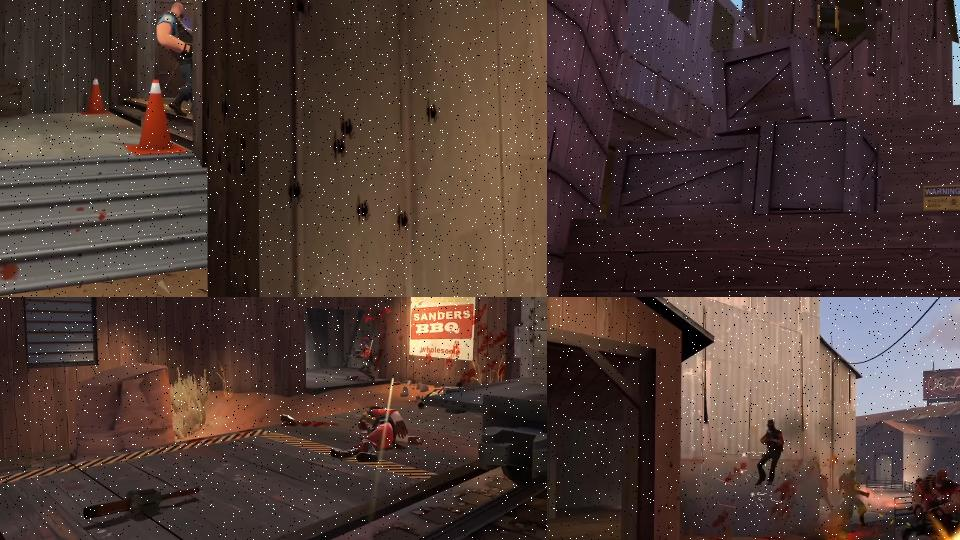Enemy: (329, 404, 425, 465), (156, 2, 194, 118), (901, 468, 960, 540), (828, 470, 871, 527), (753, 418, 785, 487), (347, 342, 376, 382)
